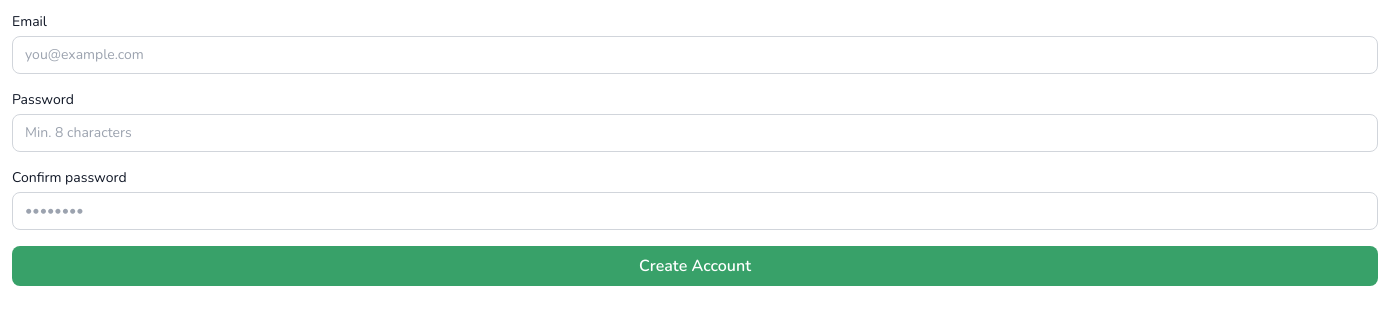
SignupForm › shows validation error when submitted empty
Click the button "Create Account": point(695, 266) [12,246,1378,286]
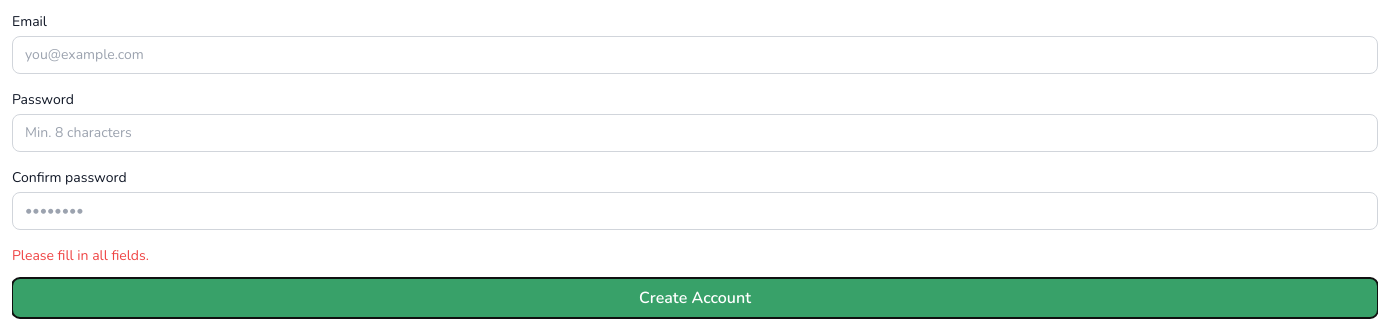
Expected: the message shows "fill in all fields", [12,246,149,265]
